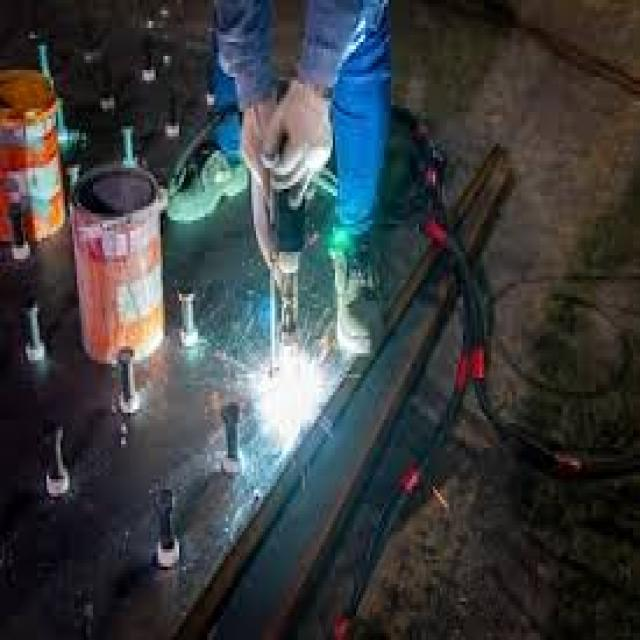welding: (260, 348, 325, 429)
